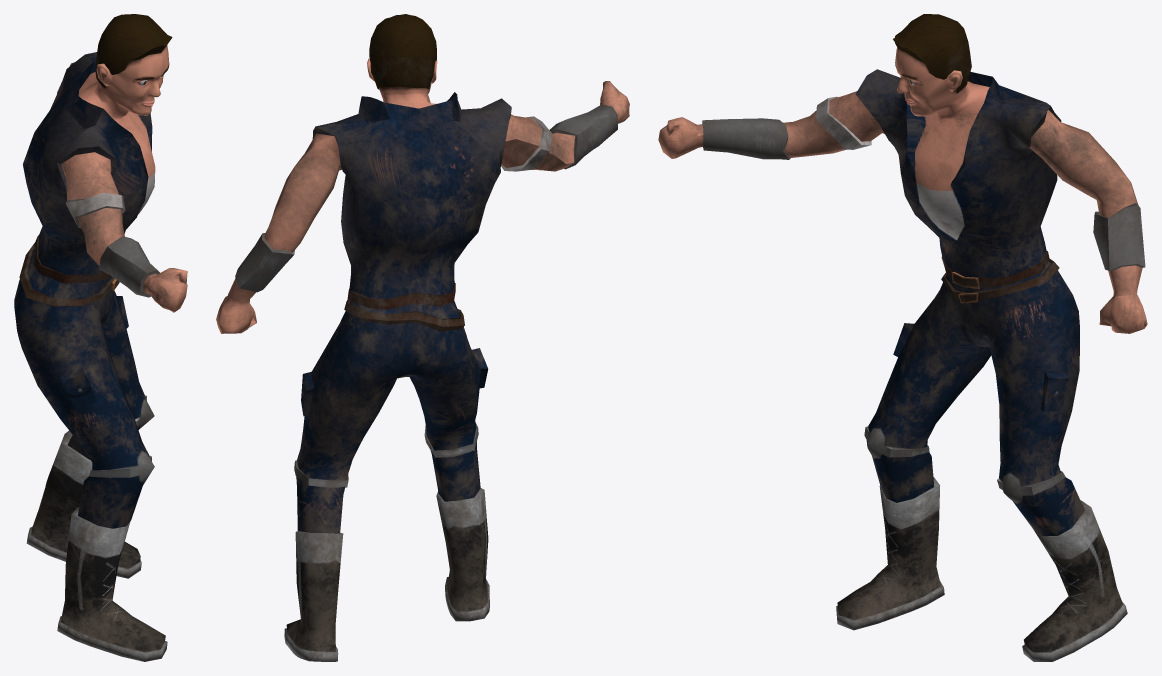
The model's file is Anim_abrir_puerta_ok_jugador.0025.obj.
3 renders of one model, left to right at view 1: azimuth 30°, elevation 25°; view 2: azimuth 150°, elevation 25°; view 3: azimuth 270°, elevation 25°, orthographic. The views are drawn at different scales.
Visible parts, largest first — view 1: polySurface1; view 2: polySurface1; view 3: polySurface1.
Boxes of the visible parts, x1,y1,x2,y2 form: polySurface1: (14, 14, 187, 661); polySurface1: (216, 14, 629, 661); polySurface1: (658, 14, 1147, 661).
Size of the model in its own units: 3.13 by 9.21 by 6.62.
